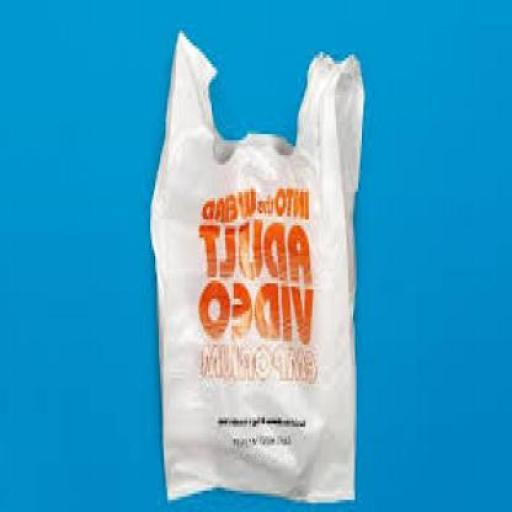plastic: (150, 28, 367, 502)
